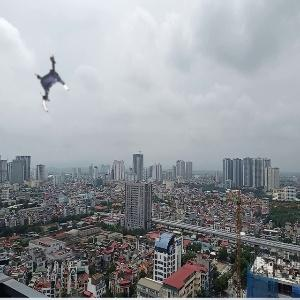drone: (27, 61, 79, 113)
